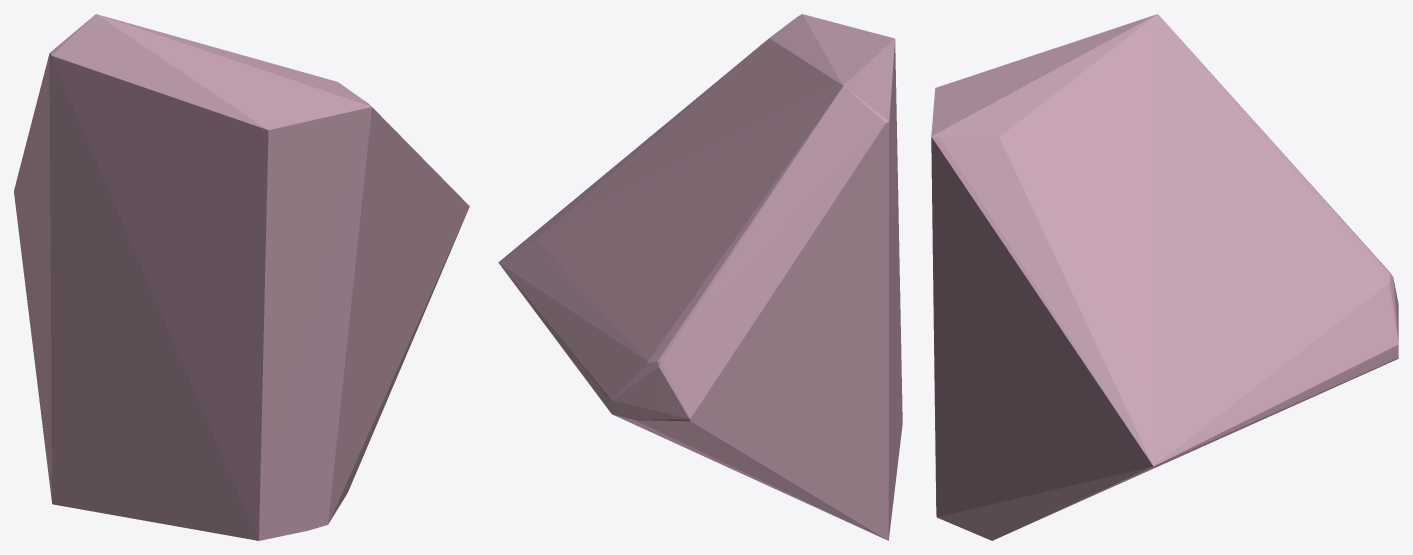
Rendered from vehicleSupport_rolling_dolly_c01.glb.
The picture shows the model from 3 angles, left to right: view 1: azimuth 30°, elevation 25°; view 2: azimuth 150°, elevation 25°; view 3: azimuth 270°, elevation 25°; orthographic projection. The views are drawn at different scales.
Visible parts, largest first — view 1: geometry_0; view 2: geometry_0; view 3: geometry_0.
Part boxes in pixels (box(x1,y1,x2,y2)): geometry_0: box(14, 14, 469, 540); geometry_0: box(498, 14, 902, 540); geometry_0: box(931, 14, 1398, 540).
Size of the model in its own units: 0.4157 by 0.4533 by 0.4115.
